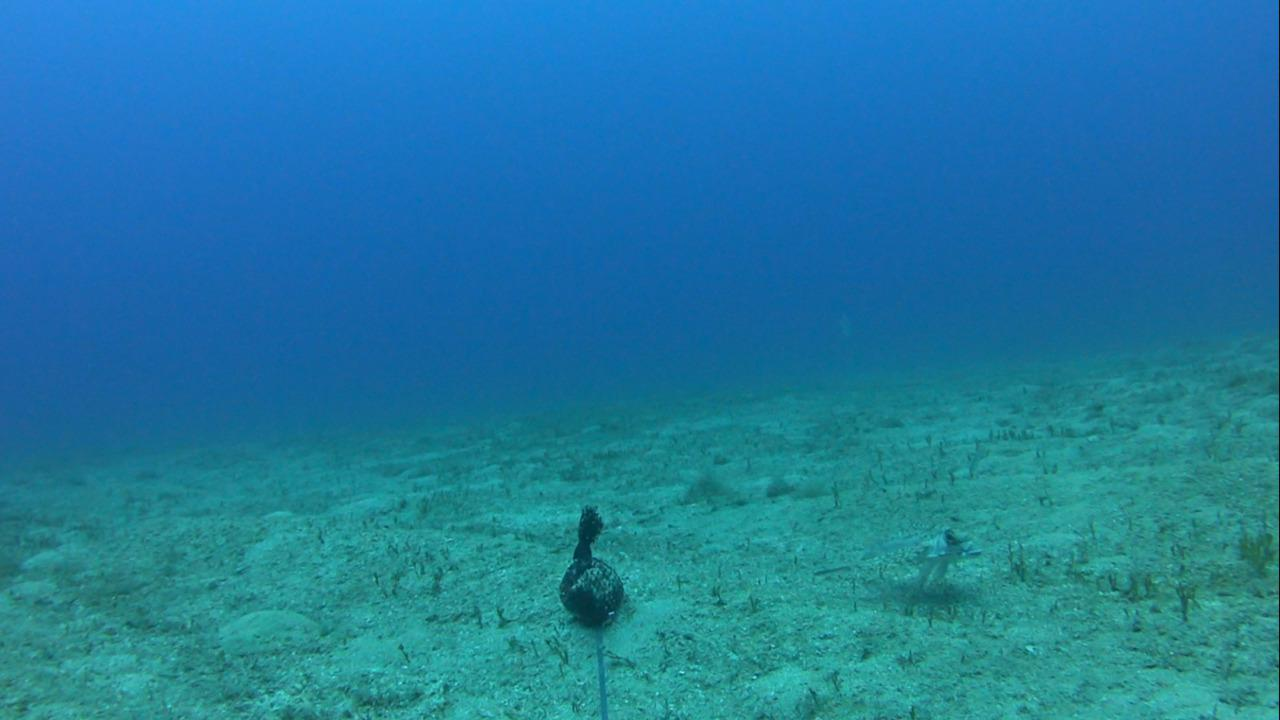dactylopterus: (809, 519, 974, 599)
